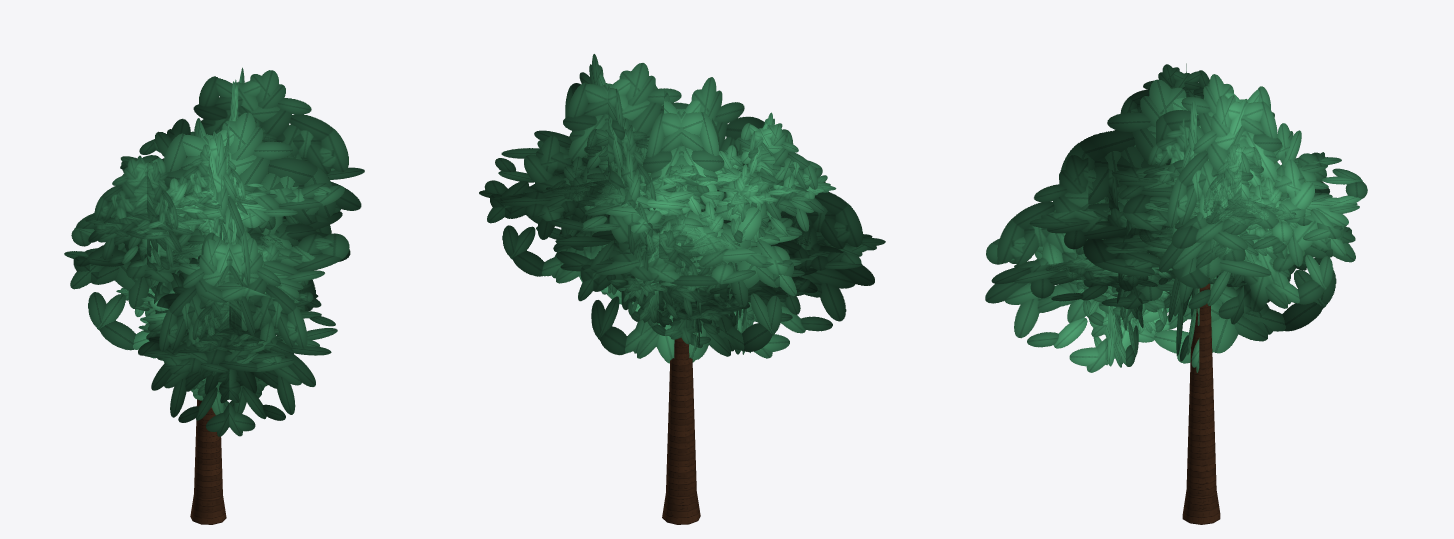
Rendered from flora_deepwood.glb.
3 views of the same model, side by side, from view 1: azimuth 30°, elevation 25°; view 2: azimuth 150°, elevation 25°; view 3: azimuth 270°, elevation 25° (orthographic). The views are drawn at different scales.
Visible parts, largest first — view 1: CrownFar, Crown, Trunk; view 2: CrownFar, Crown, Trunk; view 3: CrownFar, Crown, Trunk.
Part boxes in pixels (<box>): CrownFar: <box>64,67,364,436</box>; Crown: <box>85,118,314,397</box>; Trunk: <box>190,399,226,524</box>; CrownFar: <box>479,54,885,363</box>; Crown: <box>546,112,836,350</box>; Trunk: <box>662,337,700,524</box>; CrownFar: <box>985,74,1367,372</box>; Crown: <box>1045,63,1322,333</box>; Trunk: <box>1182,283,1220,524</box>.
Size of the model in its own units: 11.51 by 12.81 by 12.61.
2 materials, 2 textured.
